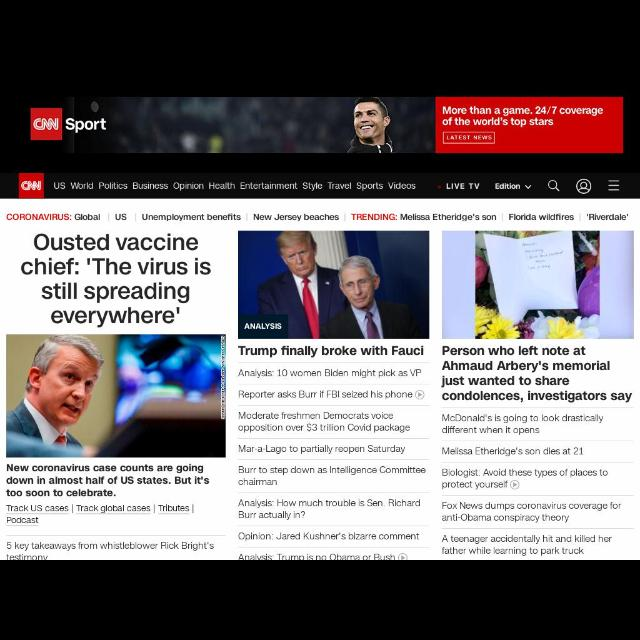icon: (606, 176, 622, 194), (575, 180, 593, 192), (548, 180, 560, 194), (416, 388, 426, 402), (432, 180, 443, 192), (398, 550, 410, 560), (511, 481, 519, 491), (526, 183, 532, 189)
iframe: (1, 83, 639, 173)
image: (10, 334, 226, 458), (442, 230, 636, 344), (238, 230, 430, 338), (442, 345, 636, 403)
multitab: (1, 206, 638, 227)
spinner: (496, 181, 532, 193)
text: (11, 230, 218, 328), (6, 462, 212, 498), (440, 499, 624, 526), (437, 466, 611, 492), (234, 498, 424, 520), (238, 411, 412, 435), (234, 466, 426, 486), (439, 534, 613, 556), (8, 542, 212, 560), (440, 414, 604, 436), (237, 344, 427, 358), (236, 441, 408, 455), (234, 366, 423, 378), (235, 532, 423, 544), (238, 388, 416, 400), (441, 446, 591, 460), (349, 212, 498, 224), (233, 551, 395, 559), (4, 210, 104, 222), (252, 211, 341, 223), (75, 502, 153, 514), (141, 214, 243, 222), (508, 210, 576, 222), (4, 504, 70, 516), (584, 208, 634, 222), (242, 181, 298, 191), (133, 180, 171, 193), (446, 181, 482, 193), (159, 502, 191, 514), (98, 180, 128, 192), (388, 180, 416, 192), (174, 181, 206, 191), (209, 181, 237, 191), (328, 182, 354, 192), (358, 181, 384, 191), (300, 181, 324, 191), (5, 518, 43, 524), (70, 182, 94, 190), (498, 183, 522, 189), (52, 181, 66, 191), (115, 212, 128, 220)
toolbar: (4, 175, 638, 198)
